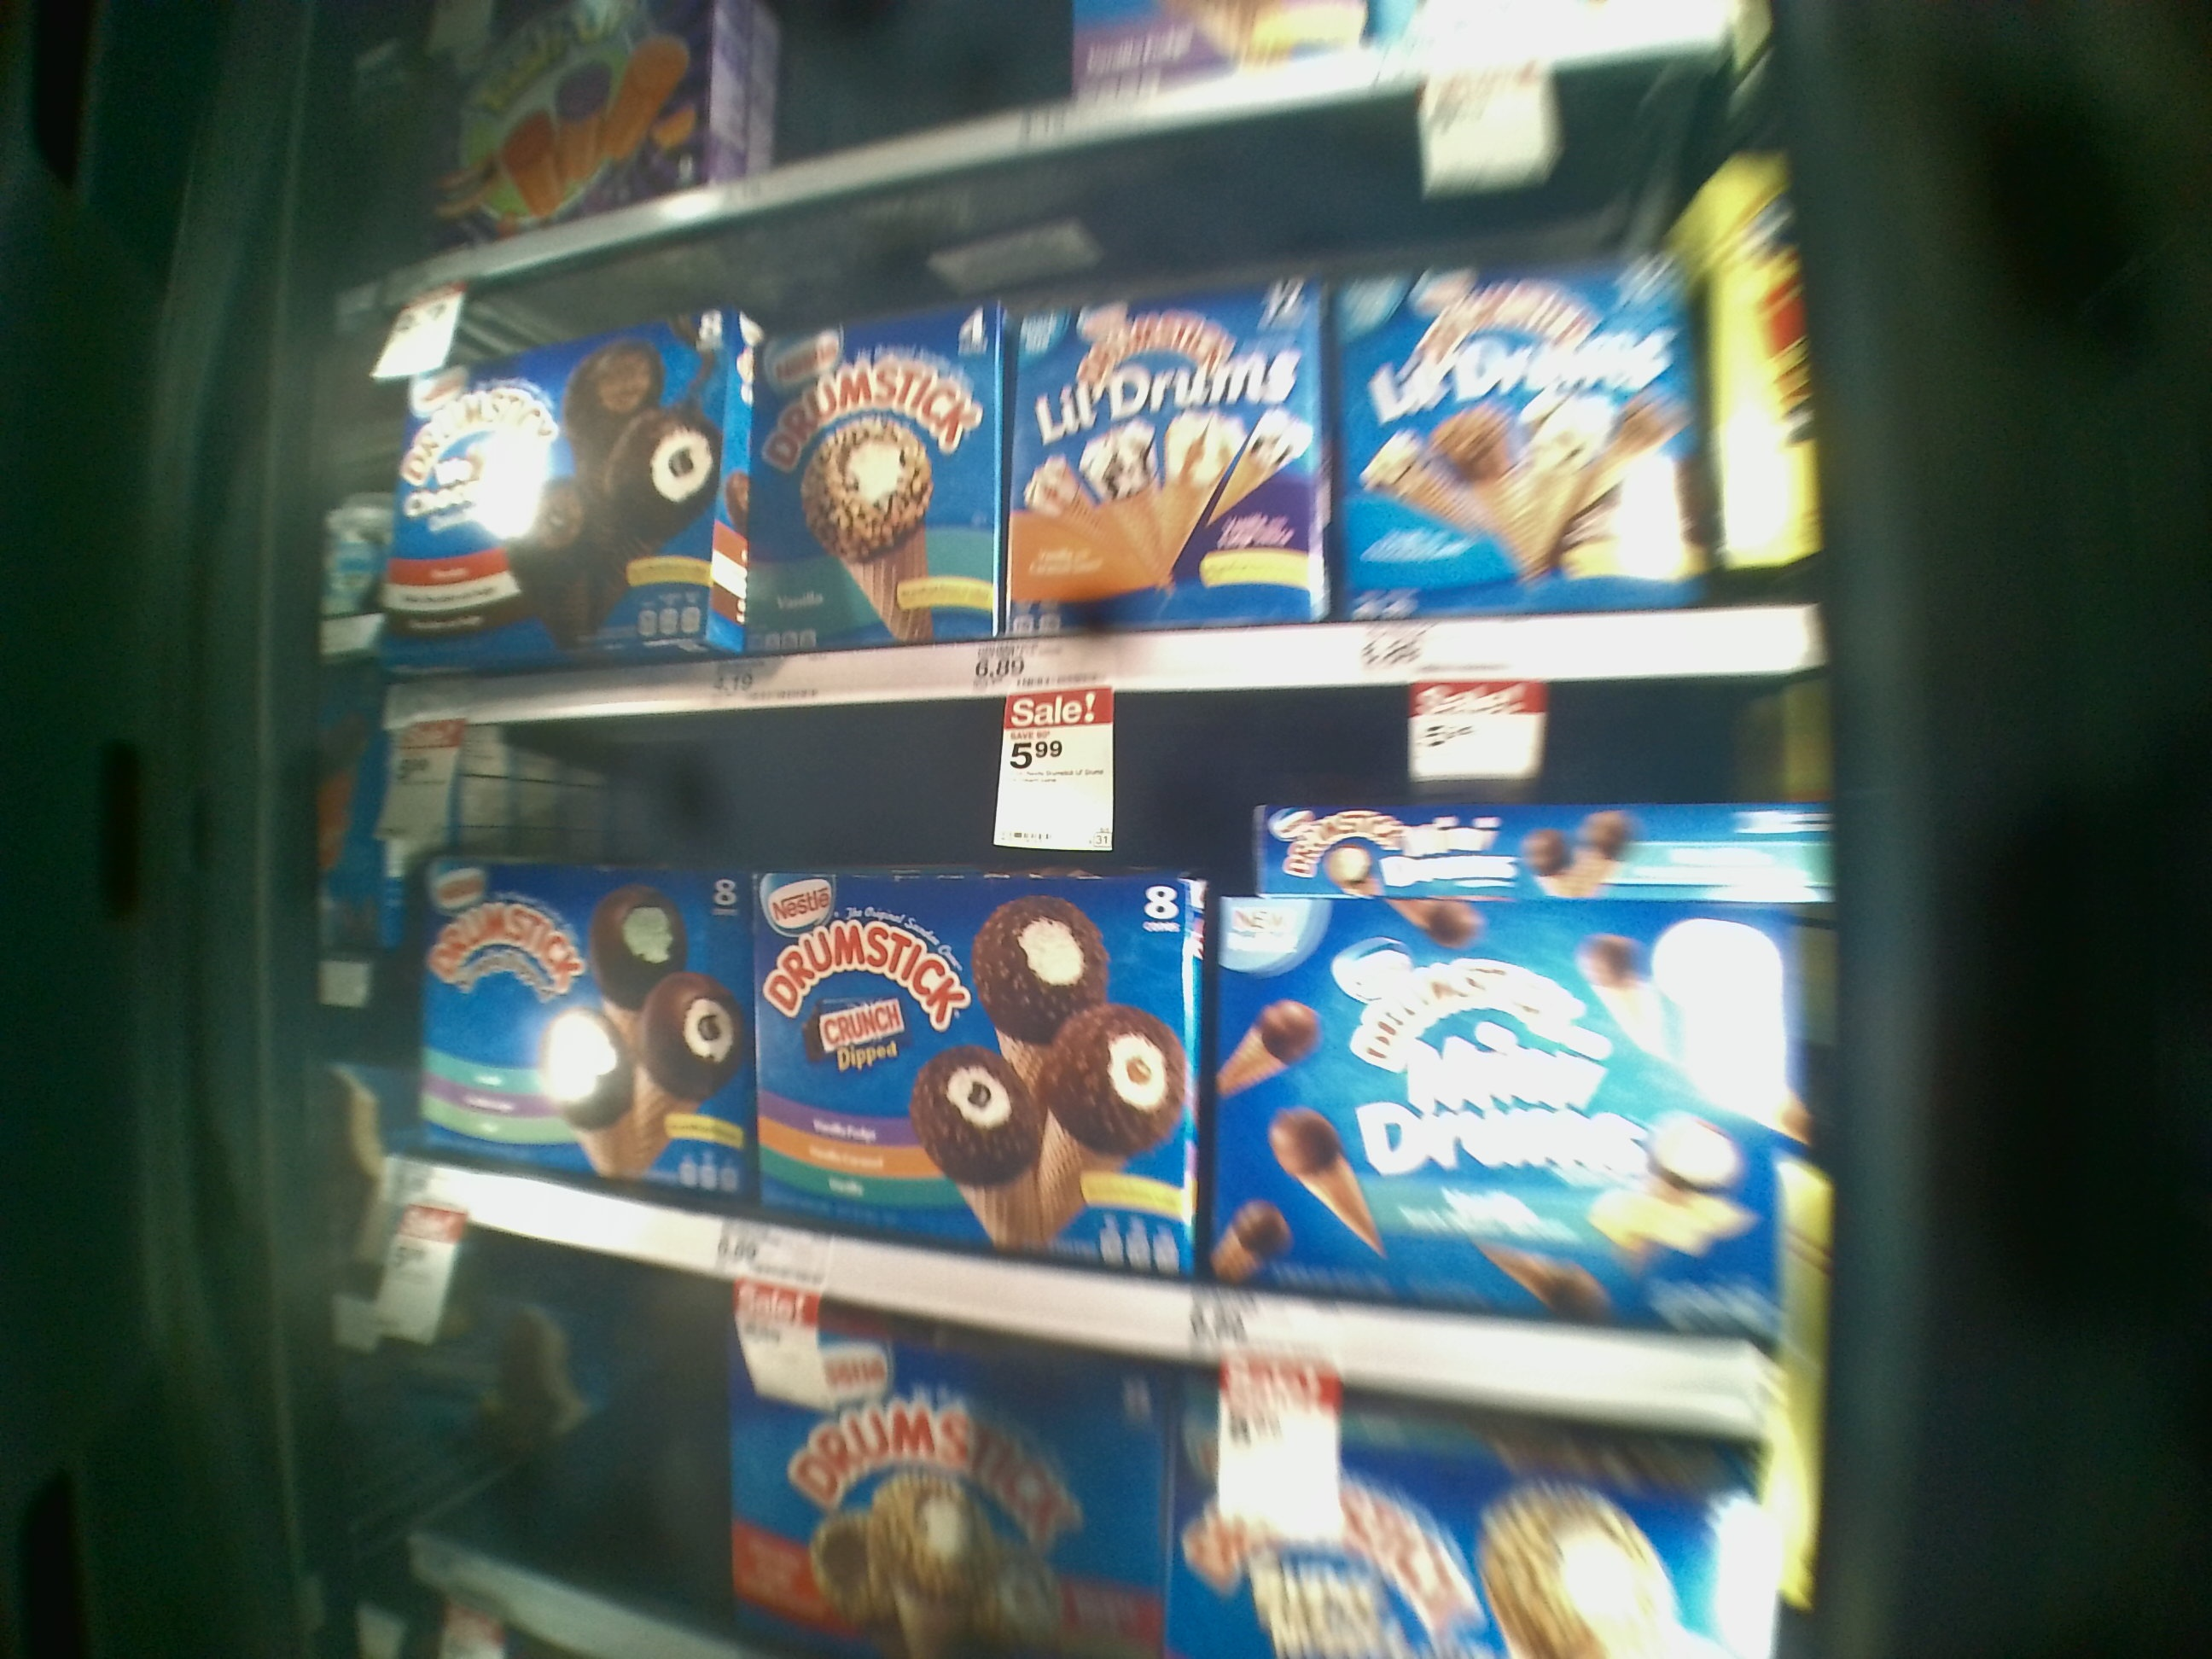shelf: (369, 673, 1838, 1424)
